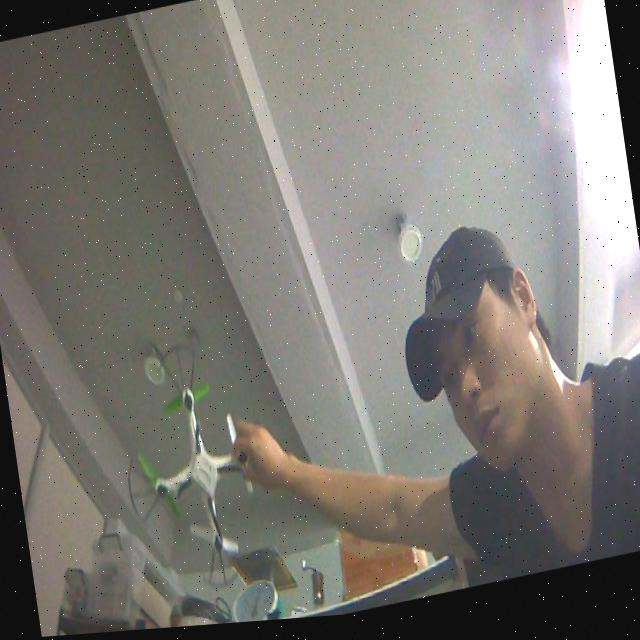drone: (110, 326, 292, 612)
